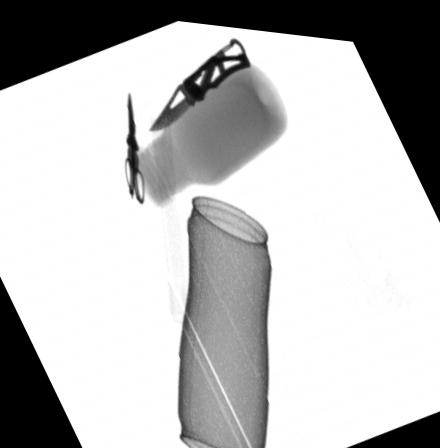Knife: (148, 30, 250, 129)
Scissors: (123, 87, 146, 201)
